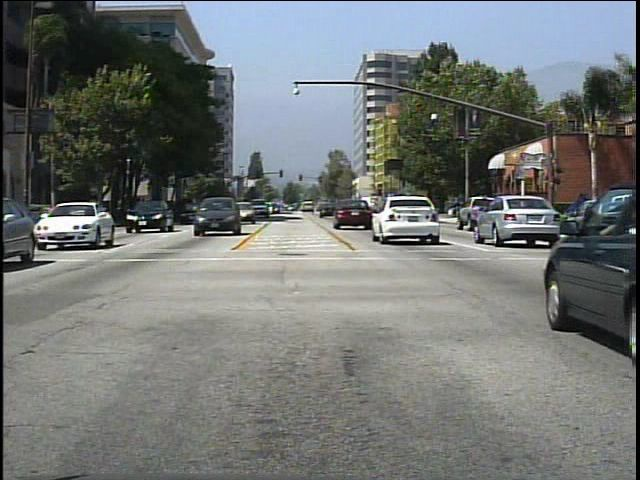person: (528, 194, 547, 228), (492, 189, 510, 224)
